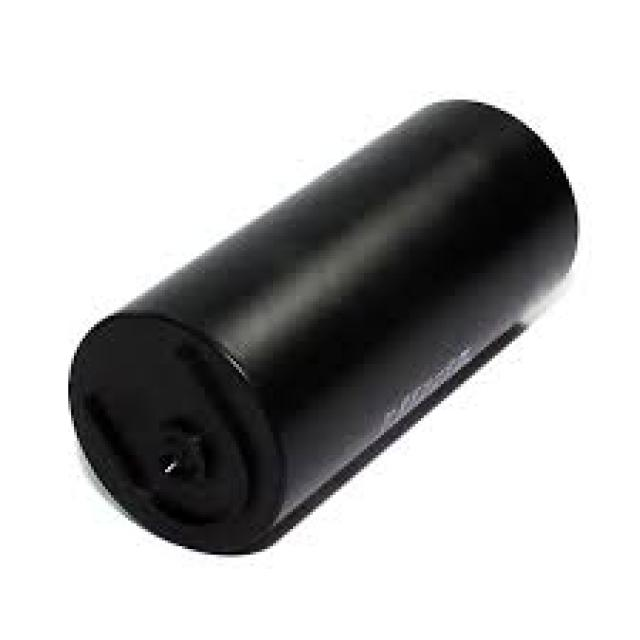Capacitor: (68, 100, 583, 560)
